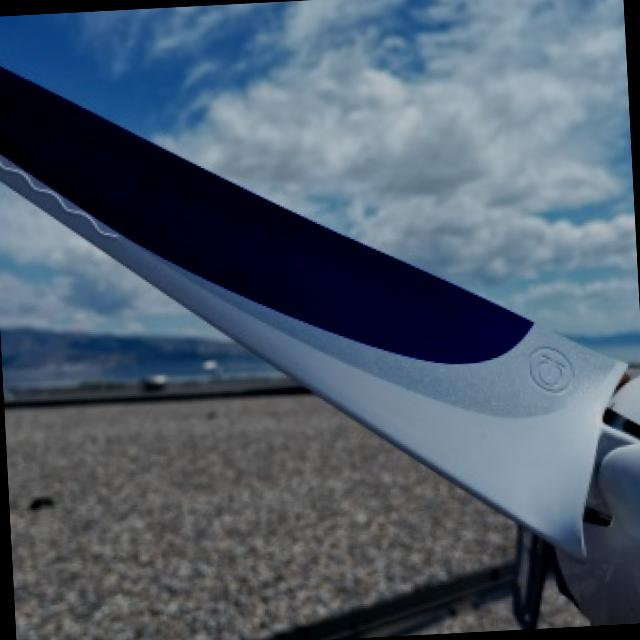healthy: (6, 395, 513, 640)
